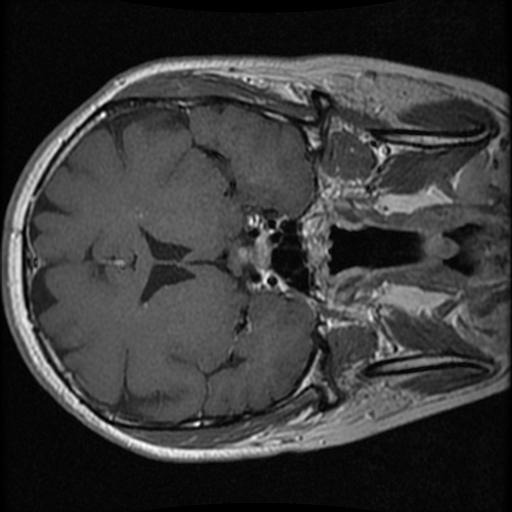pituitary tumour: (236, 232, 273, 274)
